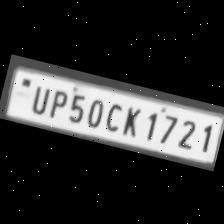0: (82, 92, 108, 128)
1: (138, 106, 162, 142), (193, 118, 217, 152)
2: (172, 113, 200, 150)
5: (62, 87, 89, 123)
7: (153, 109, 179, 146)
C: (101, 96, 125, 132)
K: (116, 101, 144, 138)
P: (45, 84, 69, 119)
U: (25, 80, 52, 114)
